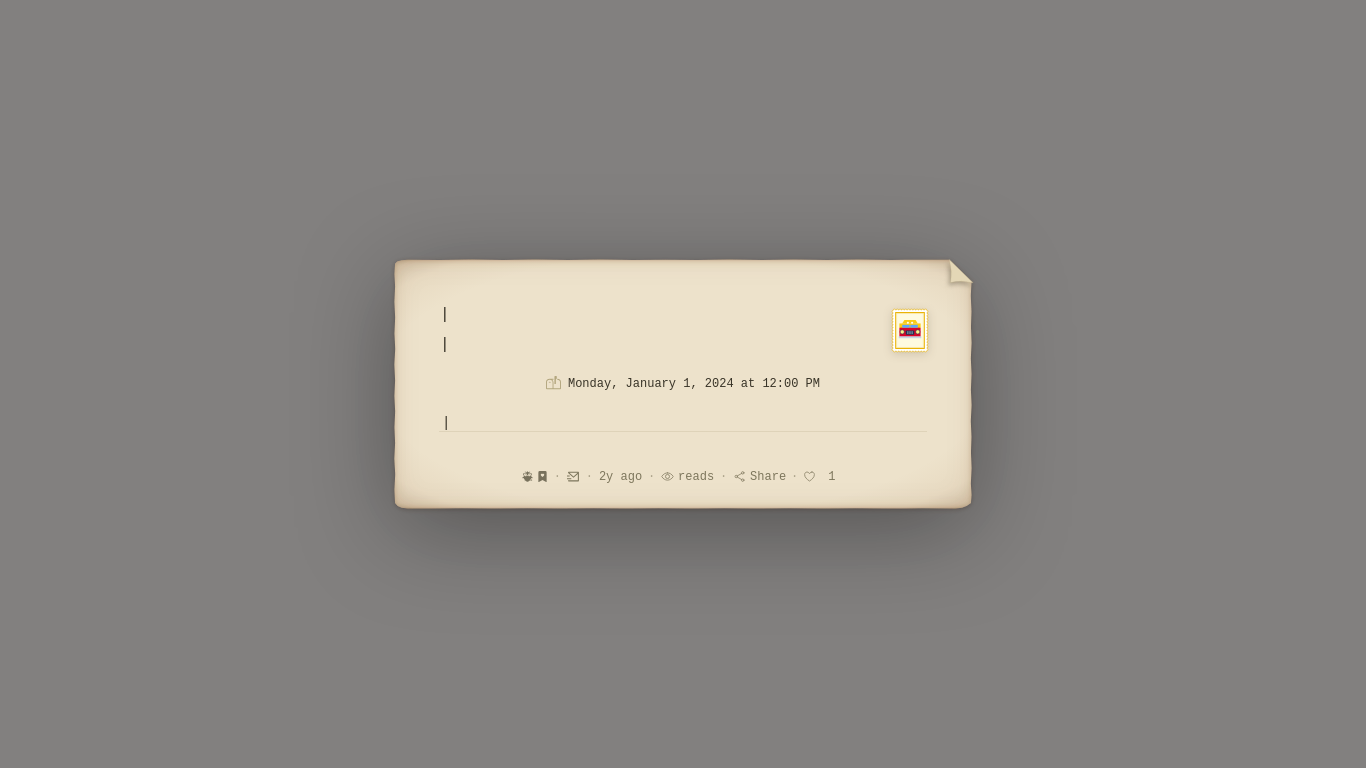
Test: Read Mode in DetailsModal › in normal mode (readMode=false), clicking background shows the close hint without closing
Click the element with class "letter-modal-overlay" at (82, 384), box 0,0 -> 1365,767
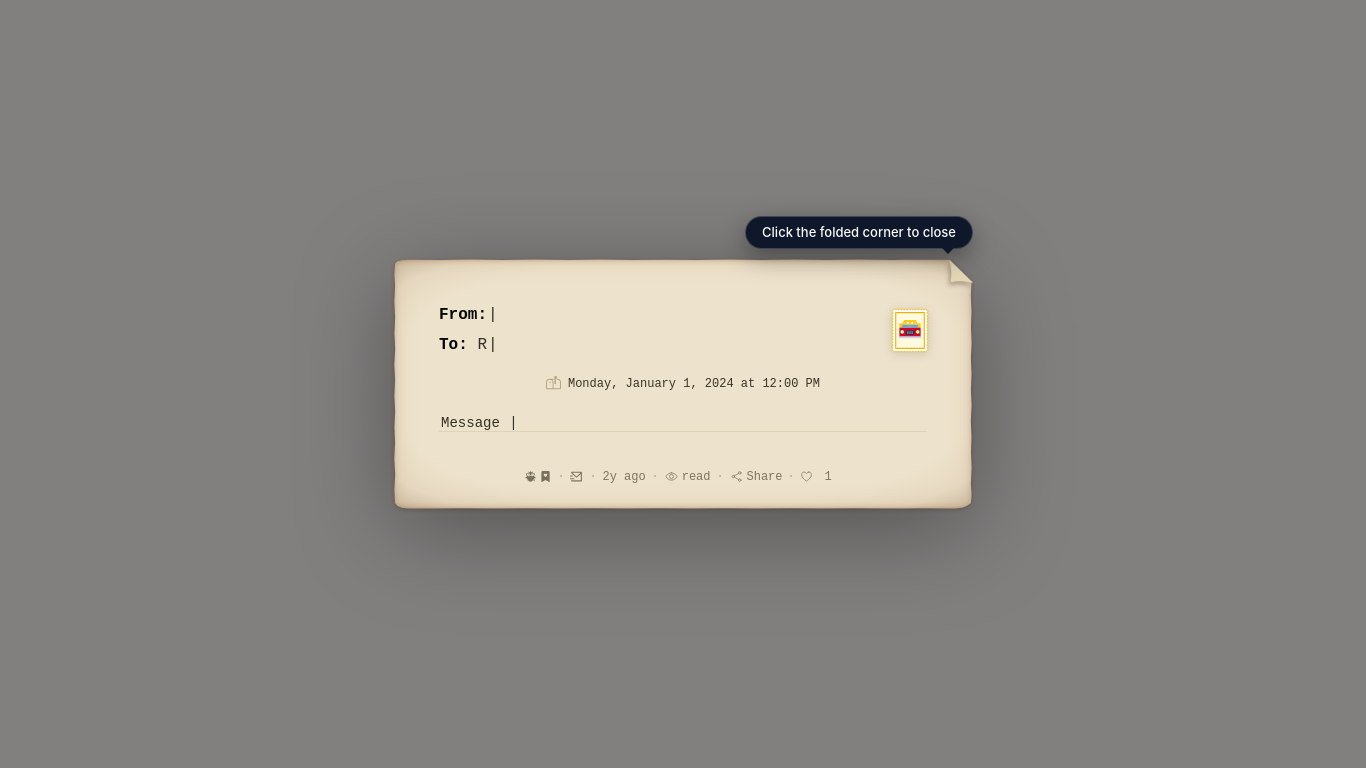
Expected: the message named "Close letter hint" is shown, 745,216 -> 973,249
